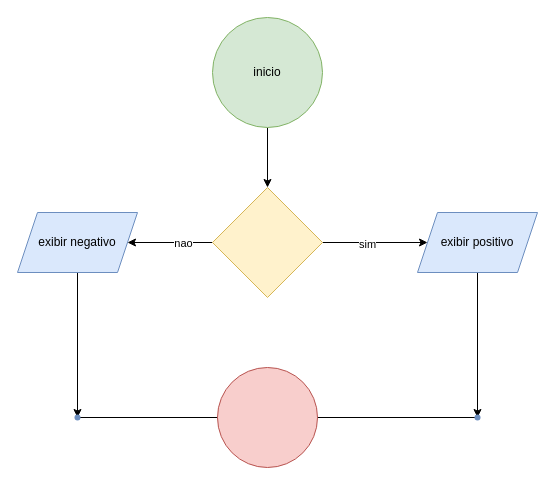
The diagram is 555 pixels wide and 485 high, and some of its shapes have lost their labels. The shapes that lost their labels are listed below. From the top down, each one's centre as x and y in pixels, then its label:
At (x=267, y=242): "é maior que zero".
At (x=267, y=417): "fim".
